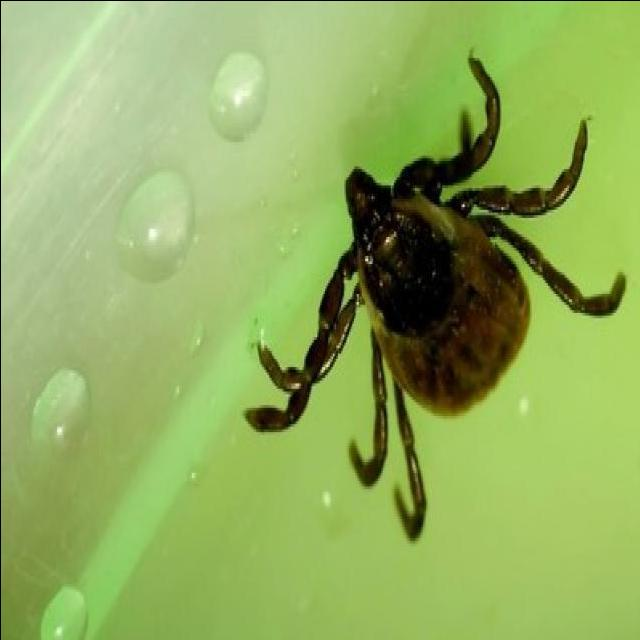Rhipicephalus Sanguineus-F: (242, 52, 627, 542)
